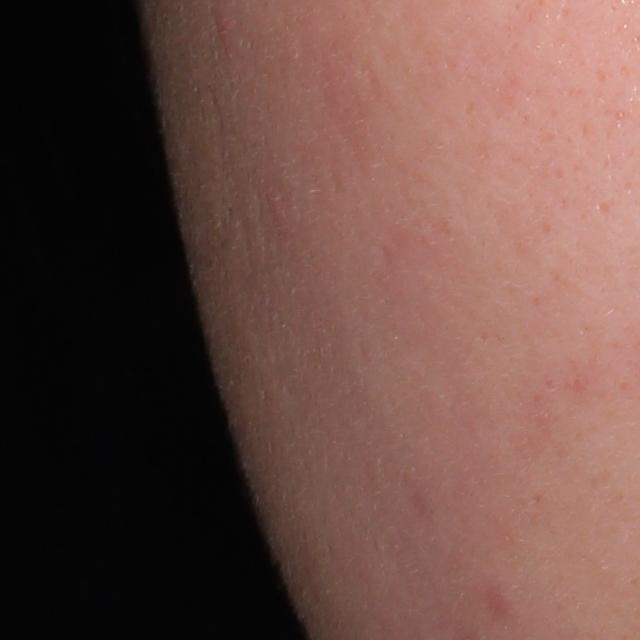papule: (213, 4, 234, 46)
